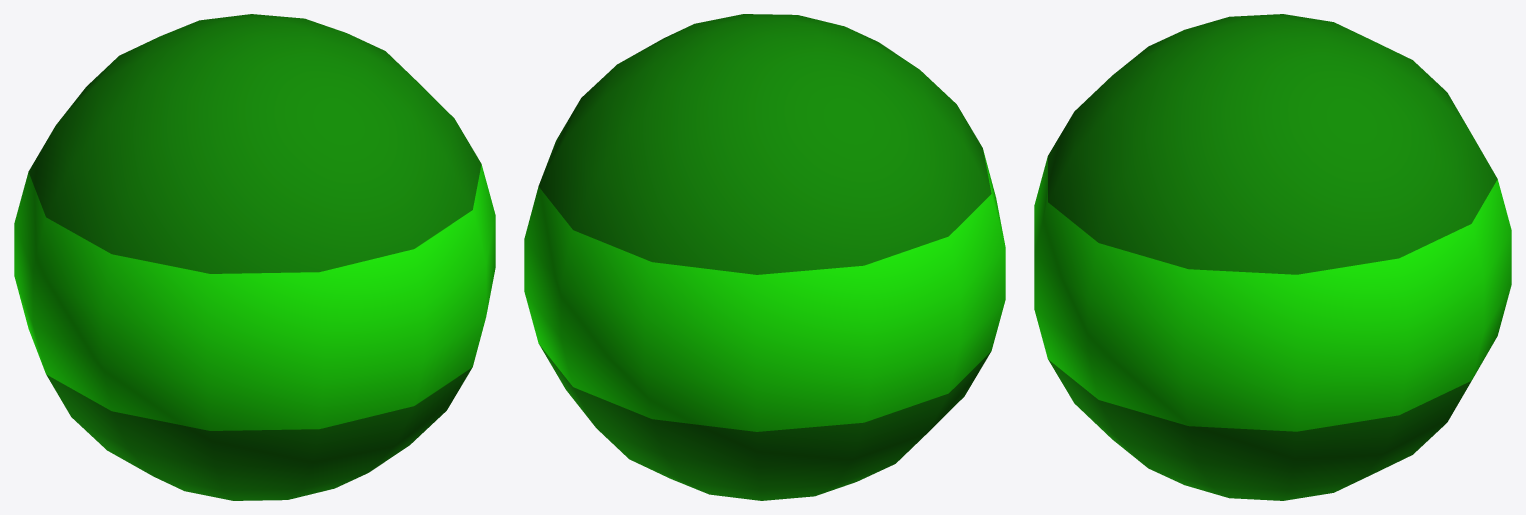
The model's file is D_Ball12_08.fbx.
3 renders of one model, left to right at view 1: azimuth 30°, elevation 25°; view 2: azimuth 150°, elevation 25°; view 3: azimuth 270°, elevation 25°, orthographic.
Visible parts, largest first — view 1: D_Ball12_08; view 2: D_Ball12_08; view 3: D_Ball12_08.
Part boxes in pixels (x1,y1,x2,y2): D_Ball12_08: (14,14,495,500); D_Ball12_08: (524,14,1005,500); D_Ball12_08: (1034,14,1511,500).
Size of the model in its own units: 0.9798 by 0.9943 by 0.9727.
